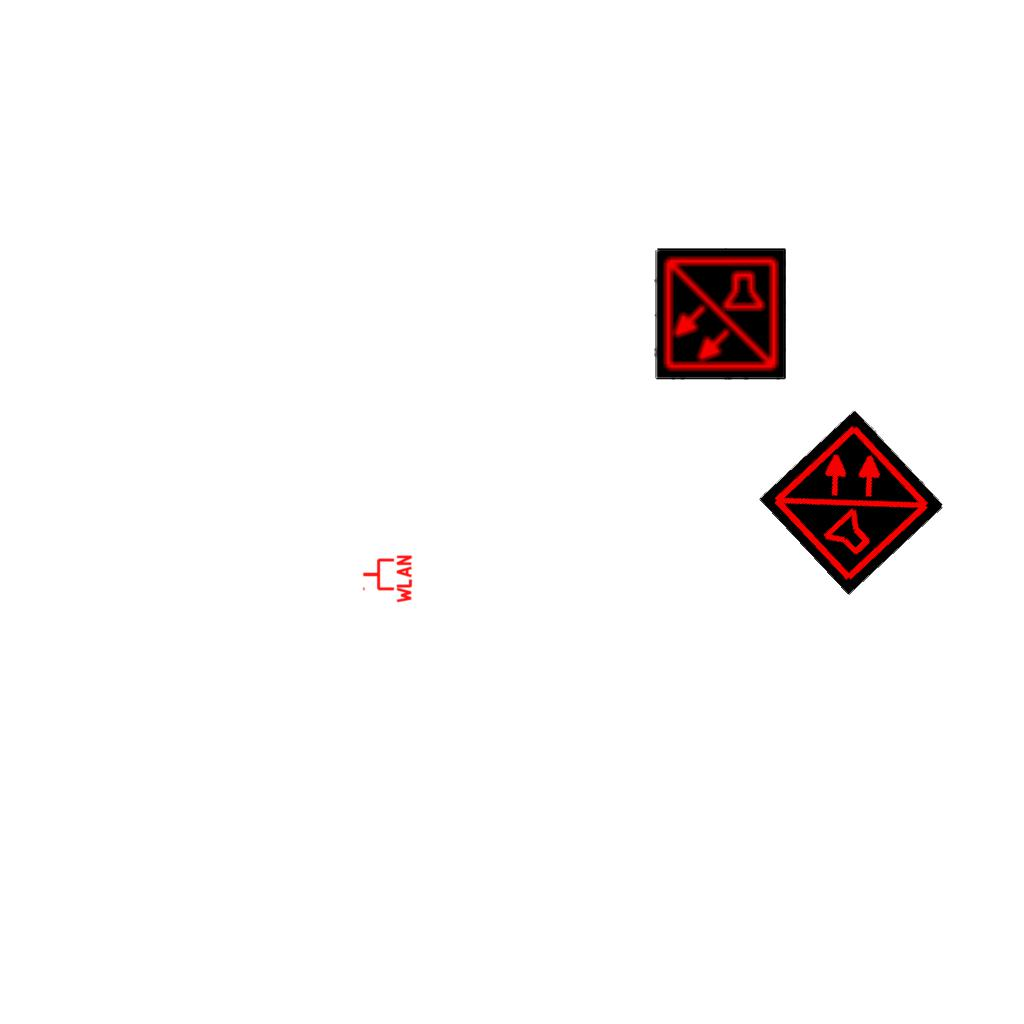OKW_Multisensormelder_(Kombination_optischer_Rauch-Kahlenmonoxid_Waerme-Melder): (758, 408, 946, 596), (654, 248, 786, 380)
WLAN: (361, 553, 413, 605)
